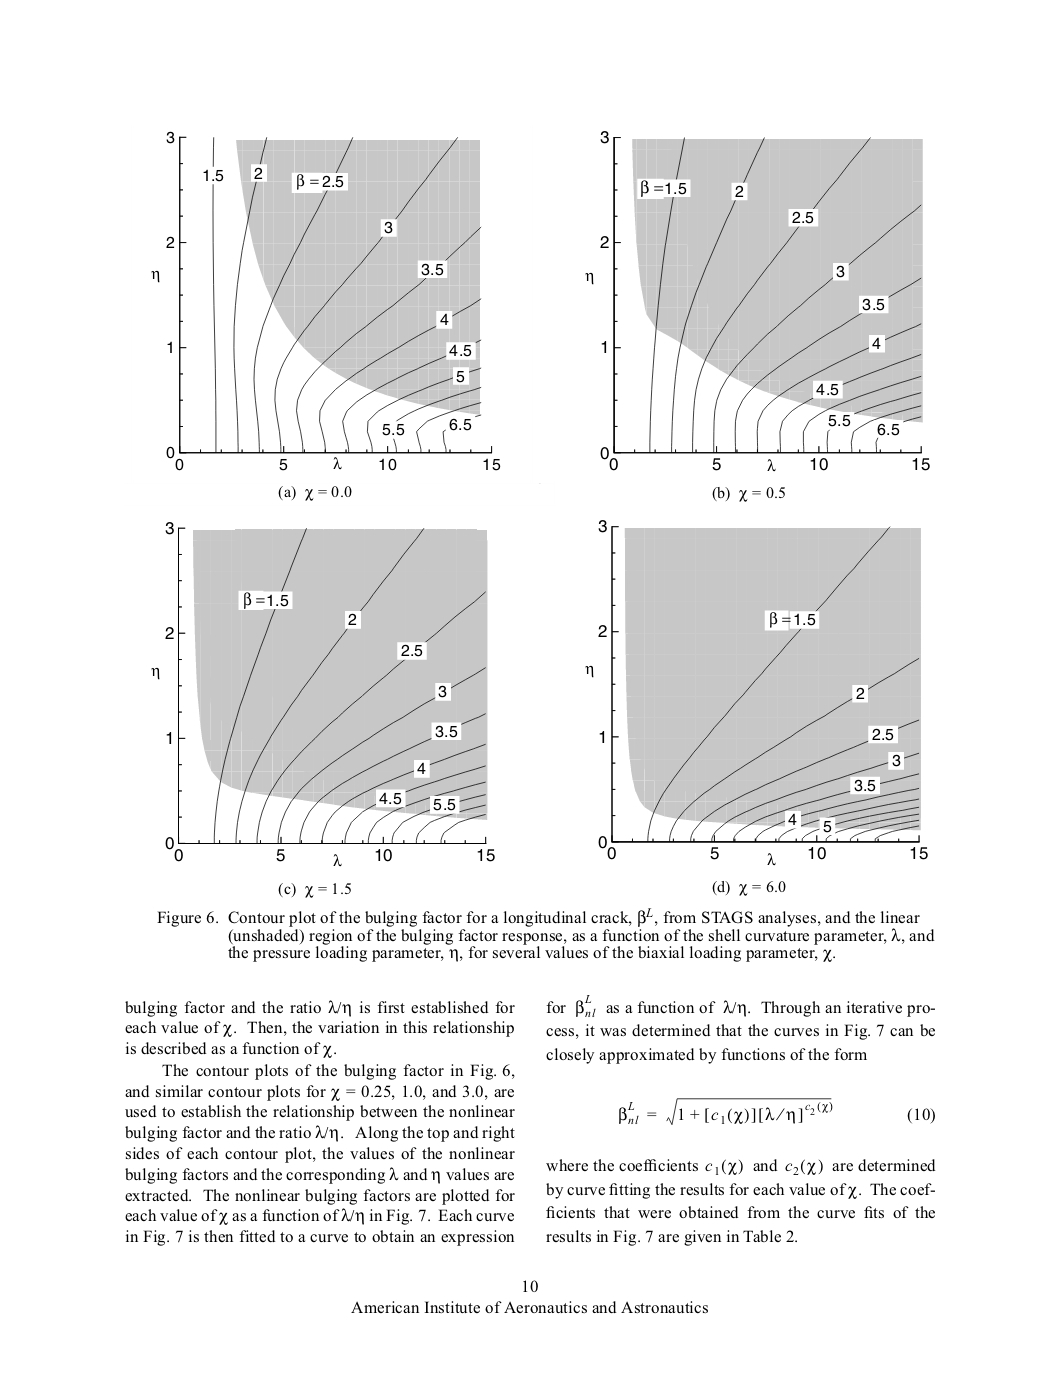figure: (150, 130, 500, 471), (150, 520, 494, 867), (585, 519, 927, 866), (585, 130, 929, 473)
formula: (619, 1097, 934, 1124)
